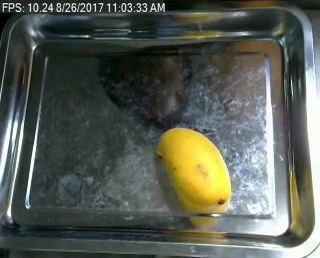Mango: (152, 124, 238, 208)
